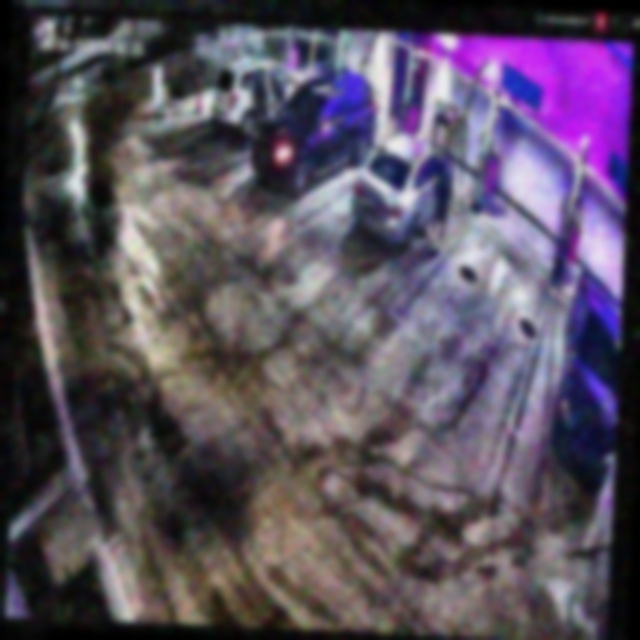Car: (249, 62, 377, 203), (348, 129, 454, 250)
